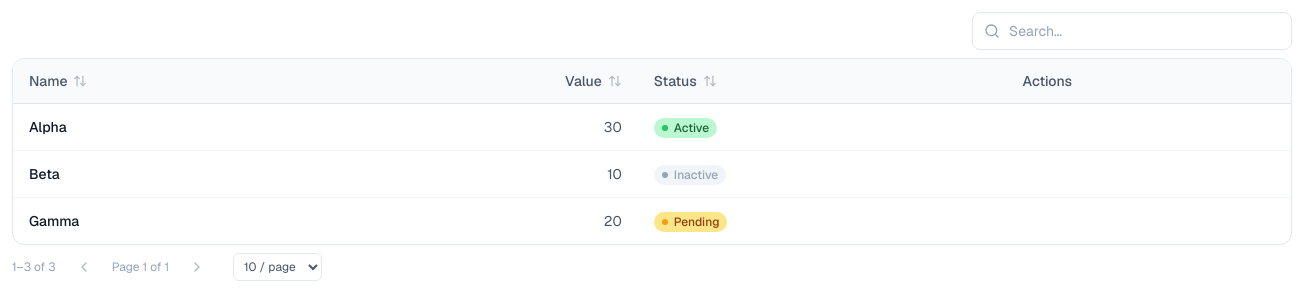
Test: DataTable › shows a dedicated no-results state for unmatched queries
The image size is (1304, 298).
Type "zzz" into the search field.
click(1132, 31); type("zzz")  # box left=972, top=12, right=1292, bottom=50
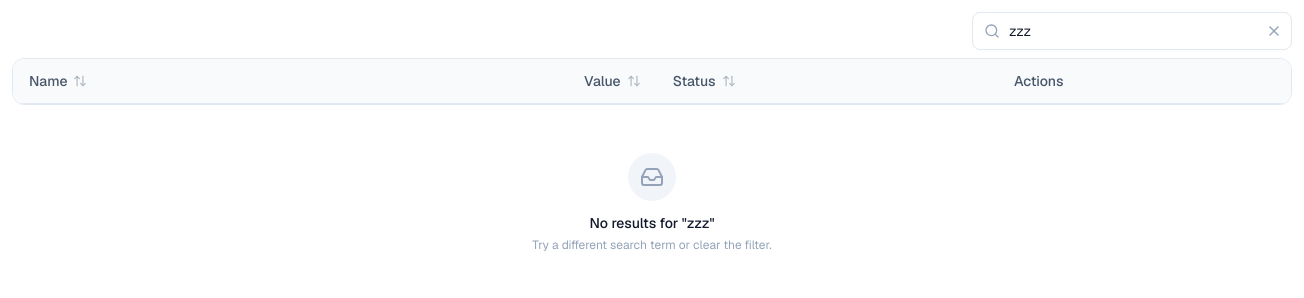
Expected: the text "No results for \"zzz\"" is shown, left=590, top=214, right=715, bottom=232
